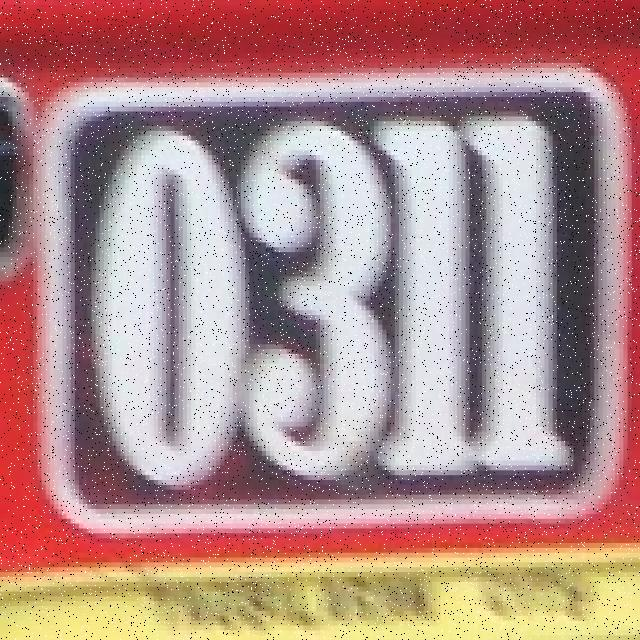licenseplate: (38, 70, 634, 534)
